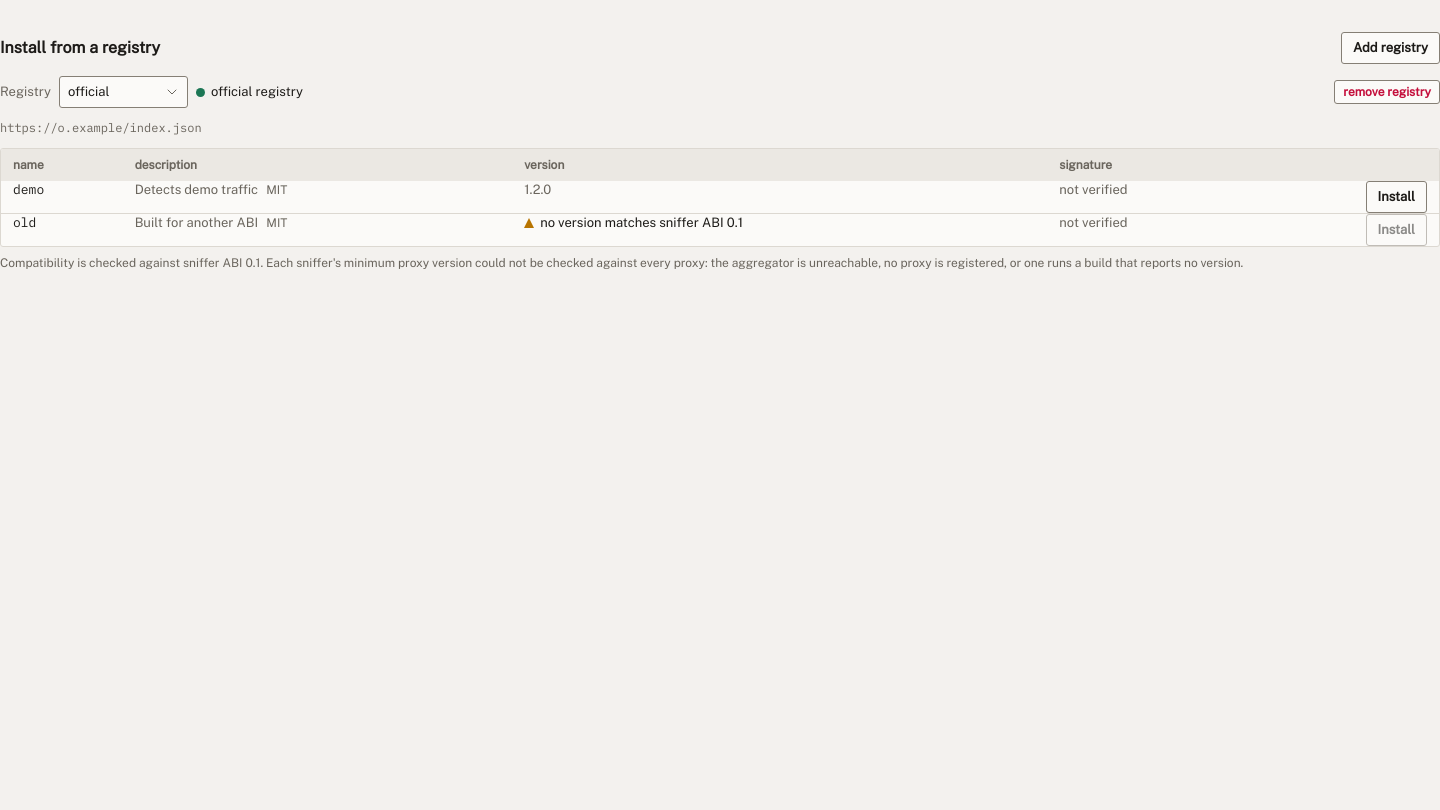
Test case: RegistrySection › the install dialog shows limits and config
Step 1. Click the button "Install" in the row of "Detects demo traffic" → click(1396, 197), box [1366,181,1427,213]
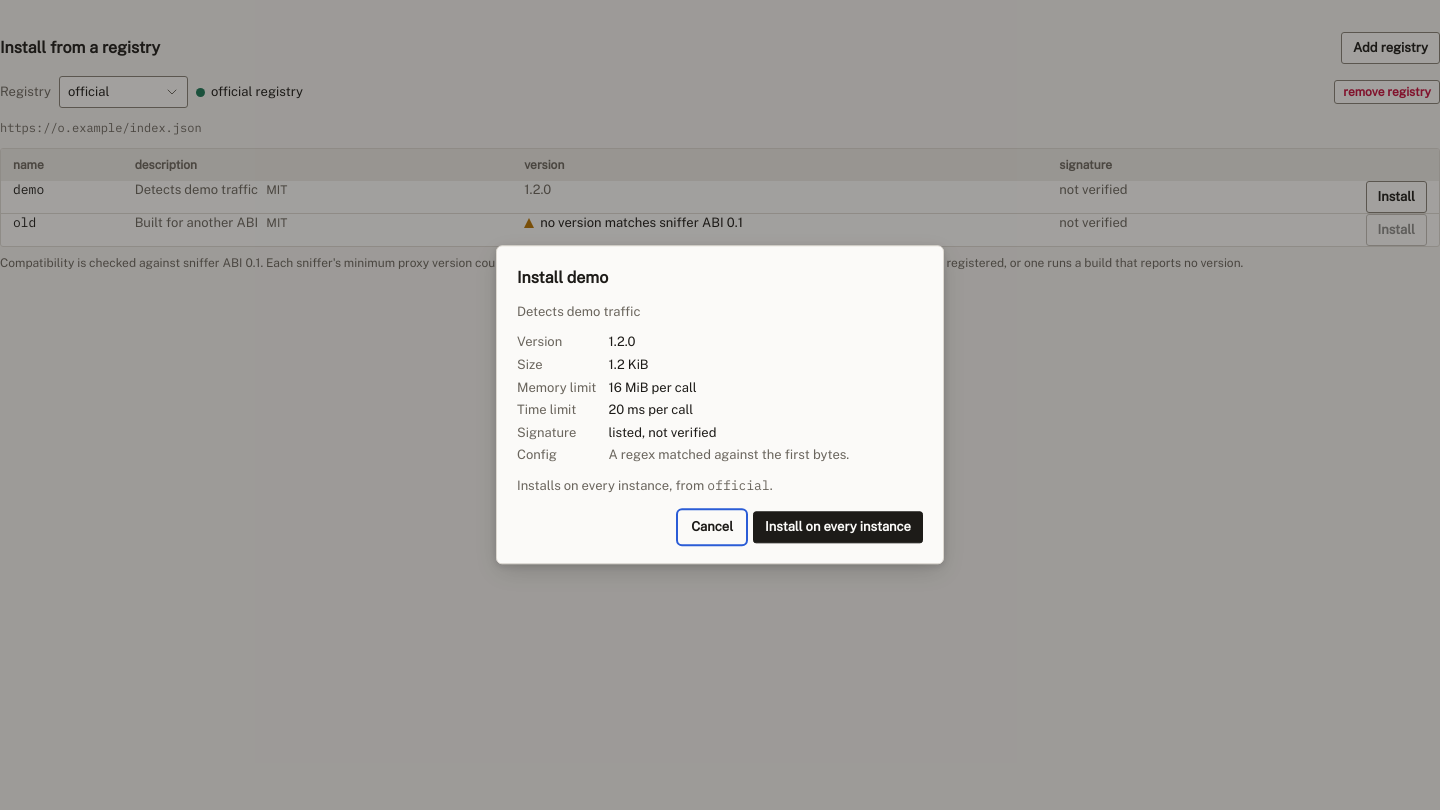
Check: the dialog shows "1.2.0", box [608,335,636,350]
Check: the dialog shows "16 MiB", box [608,380,648,395]
Check: the dialog shows "20 ms", box [496,245,944,565]
